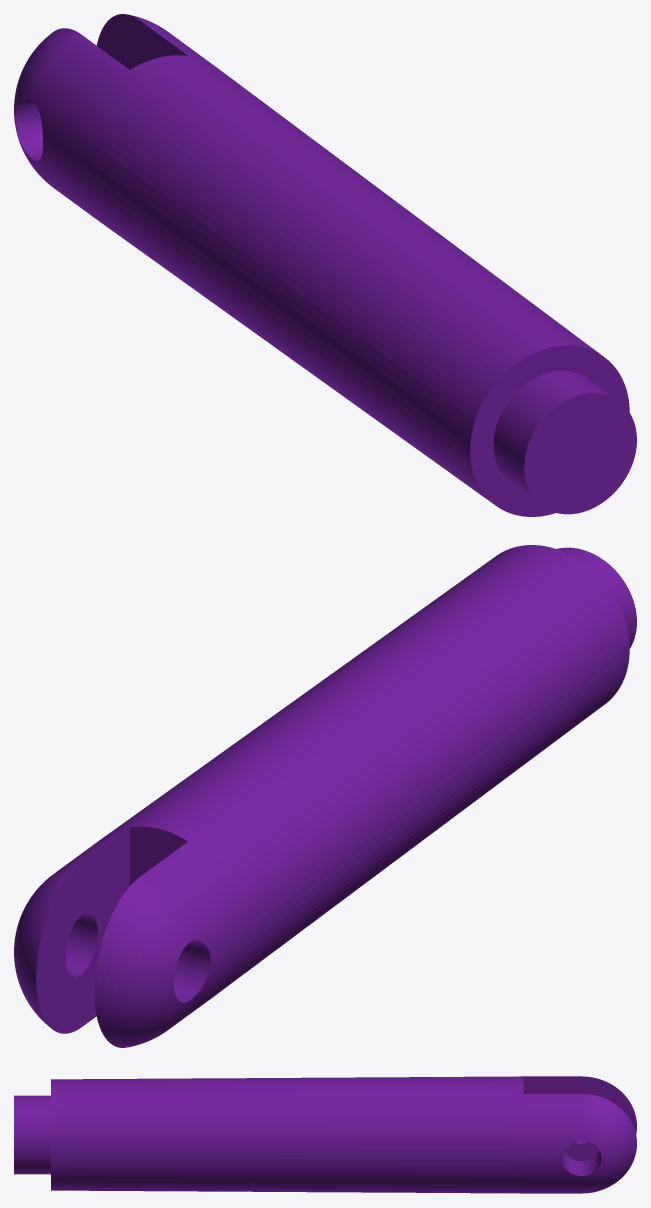
The picture shows the model from 3 angles, top to bottom: view 1: azimuth 30°, elevation 25°; view 2: azimuth 150°, elevation 25°; view 3: azimuth 270°, elevation 25°; orthographic projection. The views are drawn at different scales.
Parts seen in each view (by area): view 1: node; view 2: node; view 3: node.
Part boxes in pixels (x1,y1,x2,y2): node: (14,14,636,516); node: (14,545,636,1047); node: (14,1076,636,1193).
Size of the model in its own units: 0.0619 by 0.0619 by 0.3296.
